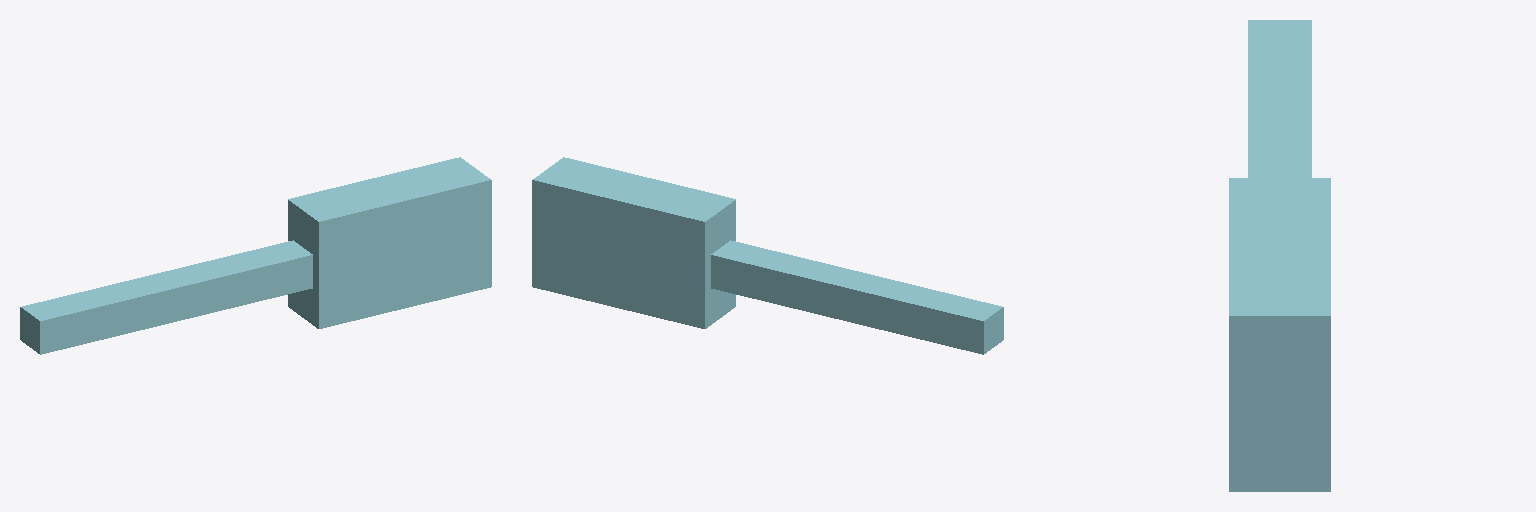
URDF robot description (cuboid_brush_v8014):
<?xml version="1.0"?>
<robot name="cuboid_brush_v8014">

  <link name="cuboid_brush_v8014">
    <!-- Handle -->
    <visual>
      <origin xyz="0 0 0" rpy="0 0 0"/>
      <geometry>
        <box size="0.18781905213540218 0.023633722908959737 0.022068489086666428"/>
      </geometry>
      <material name="material">
        <color rgba="0.639 0.847 0.882 1.0"/>
      </material>
    </visual>
    <collision>
      <origin xyz="0 0 0" rpy="0 0 0"/>
      <geometry>
        <box size="0.18781905213540218 0.023633722908959737 0.022068489086666428"/>
      </geometry>
    </collision>

    <!-- Head -->
    <visual>
      <origin xyz="0.15337225974431862 0 0" rpy="0 0 0"/>
      <geometry>
        <box size="0.11892546735323505 0.03723072157278399 0.07065796729100565"/>
      </geometry>
      <material name="material">
        <color rgba="0.639 0.847 0.882 1.0"/>
      </material>
    </visual>
    <collision>
      <origin xyz="0.15337225974431862 0 0" rpy="0 0 0"/>
      <geometry>
        <box size="0.11892546735323505 0.03723072157278399 0.07065796729100565"/>
      </geometry>
    </collision>

    <inertial>
      <density value="400.0"/>
    </inertial>
  </link>

</robot>

--- What the picture shows (computed from the rendered views, not written in the file) ---
3 views of the same robot in one strip: view 1: azimuth 30°, elevation 25°; view 2: azimuth 150°, elevation 25°; view 3: azimuth 270°, elevation 25° (orthographic).
Robot: cuboid_brush_v8014 — 1 links, 0 joints (none); root link cuboid_brush_v8014; default pose: every joint at zero.
Links seen in each view (by area): view 1: cuboid_brush_v8014; view 2: cuboid_brush_v8014; view 3: cuboid_brush_v8014.
Boxes of the visible links, left/top/right/bottom form: cuboid_brush_v8014: left=20, top=157, right=491, bottom=354; cuboid_brush_v8014: left=532, top=157, right=1003, bottom=354; cuboid_brush_v8014: left=1229, top=20, right=1330, bottom=491.
Bounding box of the posed robot: 0.3067 × 0.0372 × 0.0707 m (x, y, z).
Geometry: primitives only (box / cylinder / sphere), no mesh files.
